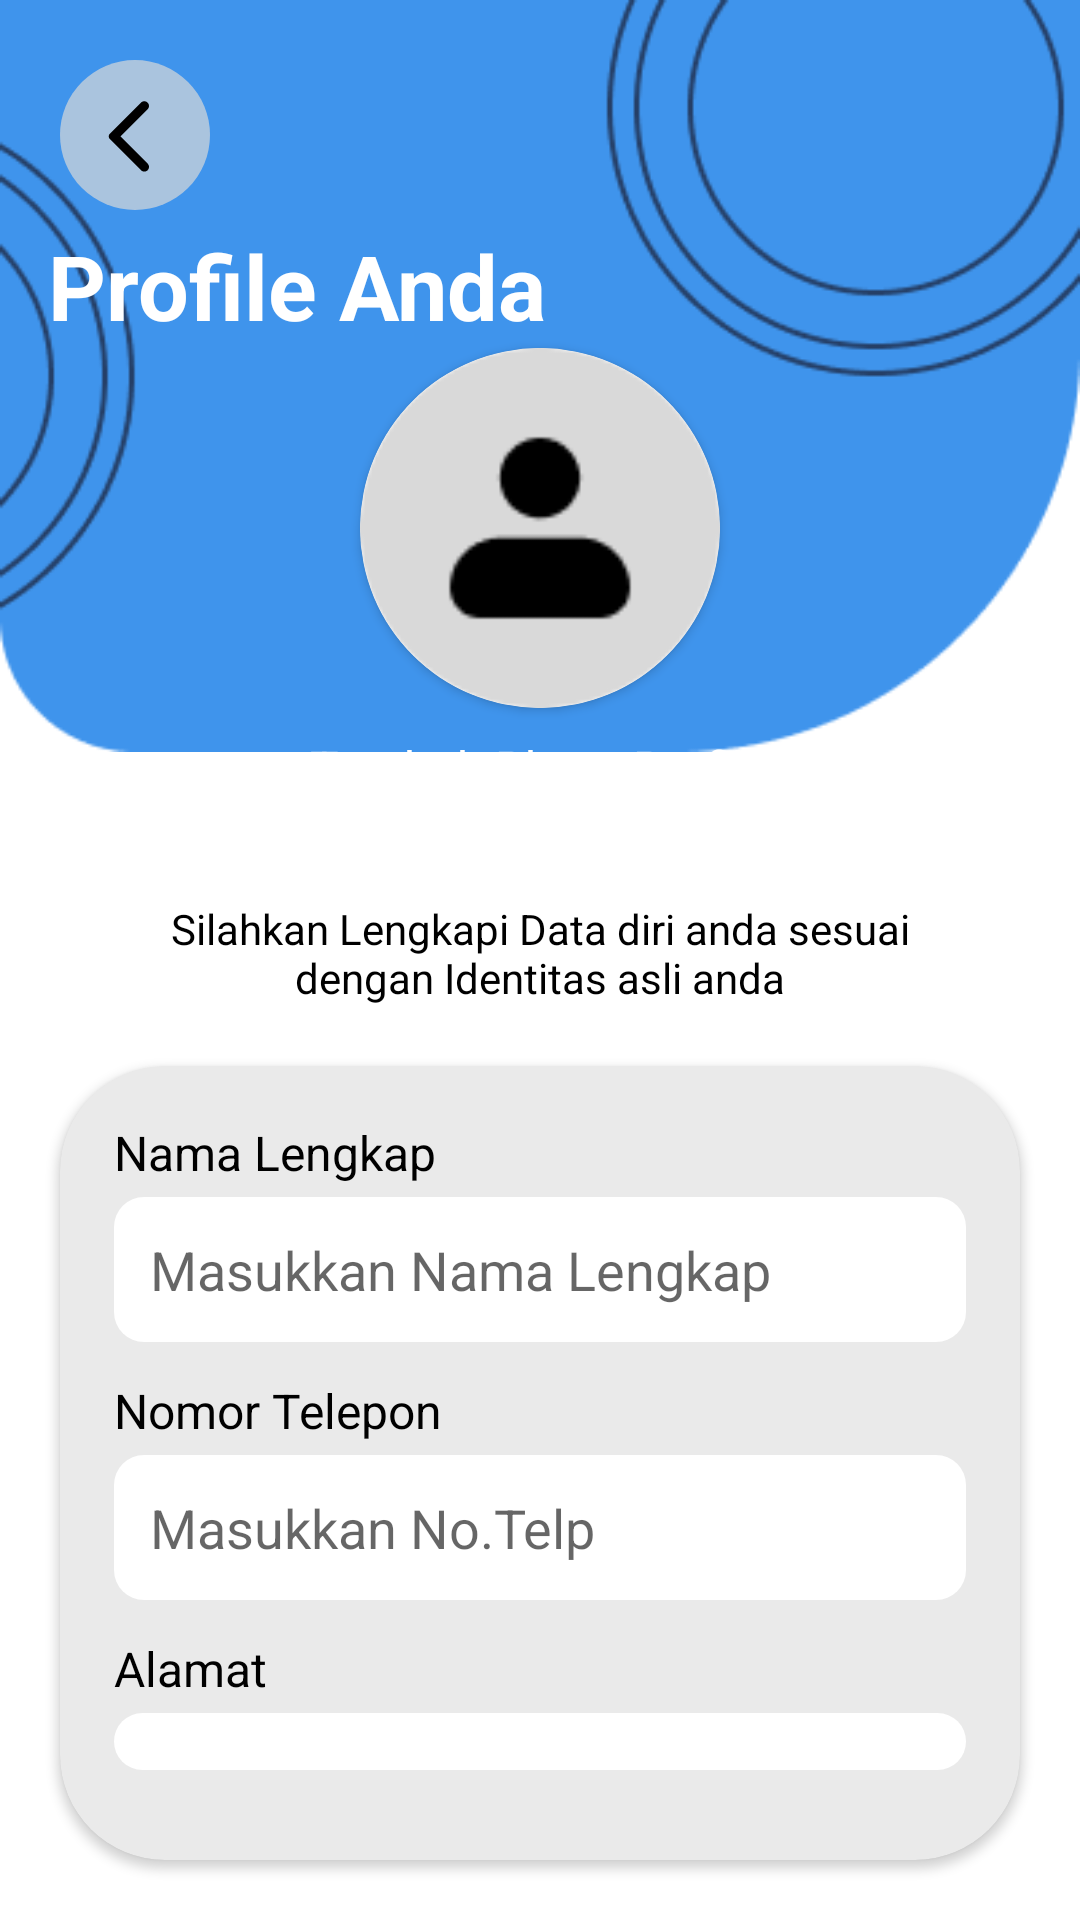

Where icons sit on this 1080 x 1920 app screen, as (x1, y1, x2, y2):
Foto profil pengguna: (360, 348, 720, 708)
